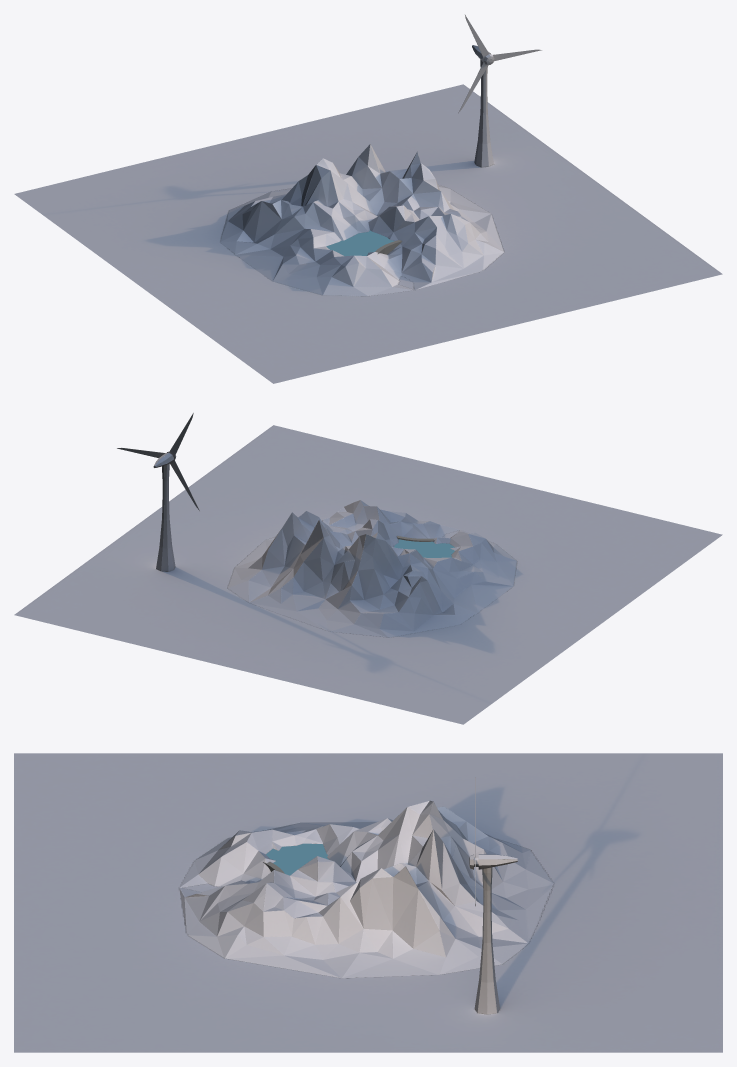
The model's file is ShadowTest.glb.
3 renders of one model, top to bottom at view 1: azimuth 30°, elevation 25°; view 2: azimuth 150°, elevation 25°; view 3: azimuth 270°, elevation 25°, orthographic. The views are drawn at different scales.
Parts seen in each view (by area): view 1: Plane.014, mountain.009, Plane.013, lake.001; view 2: Plane.014, mountain.009, Plane.013, lake.001; view 3: Plane.014, mountain.009, Plane.013, lake.001.
Boxes of the visible parts, x1=… form: Plane.014: x1=14, y1=84, x2=722, y2=383; mountain.009: x1=220, y1=144, x2=504, y2=296; Plane.013: x1=458, y1=15, x2=541, y2=167; lake.001: x1=326, y1=230, x2=394, y2=256; Plane.014: x1=14, y1=425, x2=722, y2=724; mountain.009: x1=227, y1=500, x2=516, y2=637; Plane.013: x1=117, y1=413, x2=199, y2=571; lake.001: x1=394, y1=539, x2=454, y2=557; Plane.014: x1=14, y1=753, x2=722, y2=1052; mountain.009: x1=179, y1=800, x2=553, y2=978; Plane.013: x1=469, y1=777, x2=517, y2=1014; lake.001: x1=266, y1=843, x2=328, y2=875.
Bounding box in the file's own units: 36.24 × 12.29 × 36.24.
5 materials, 3 textured.
